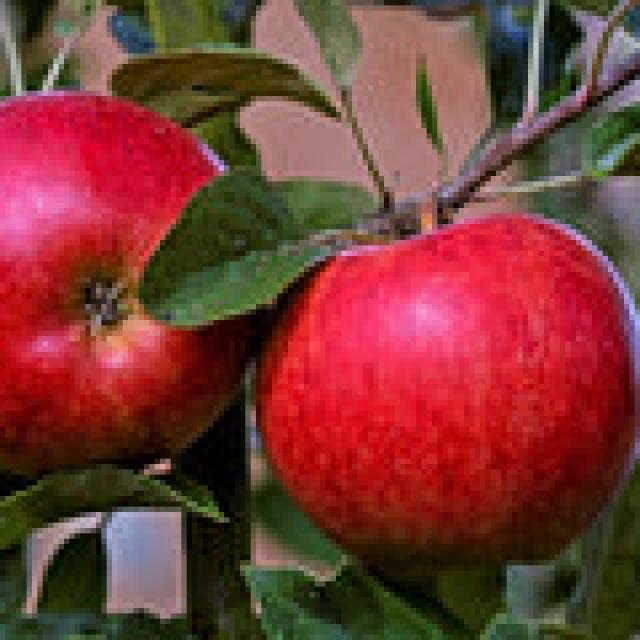apple_fruit: (240, 218, 635, 567), (0, 93, 274, 479)
